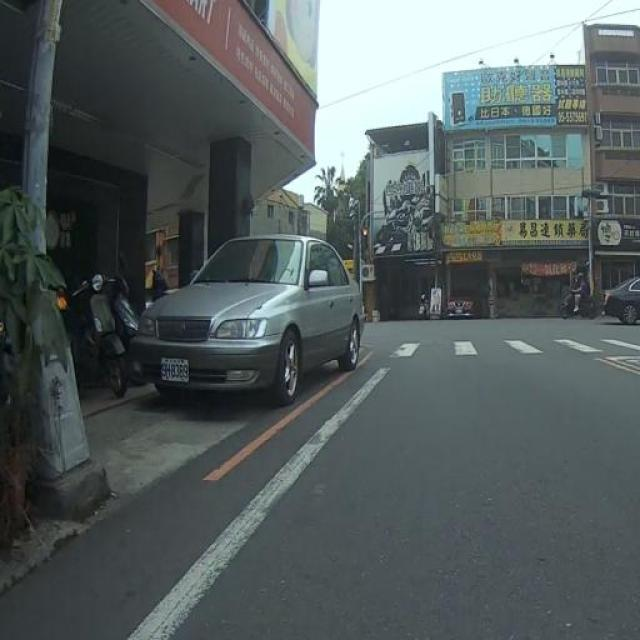illegalparking: (90, 215, 399, 424)
